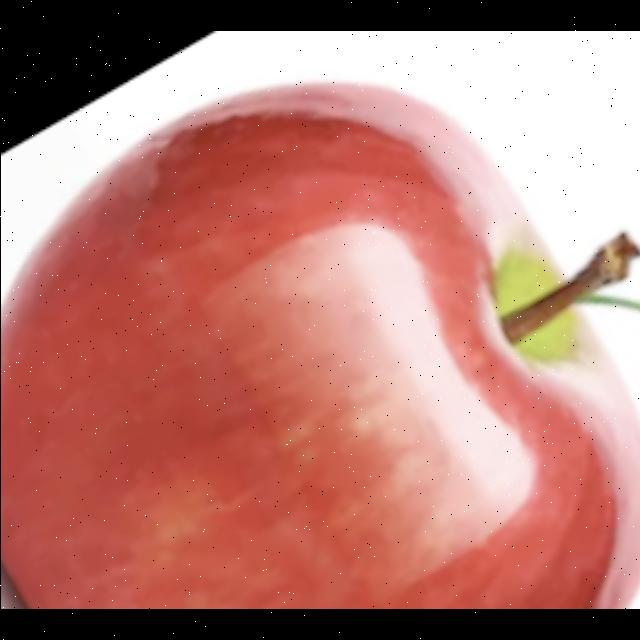Apel Segar: (0, 71, 640, 610)
